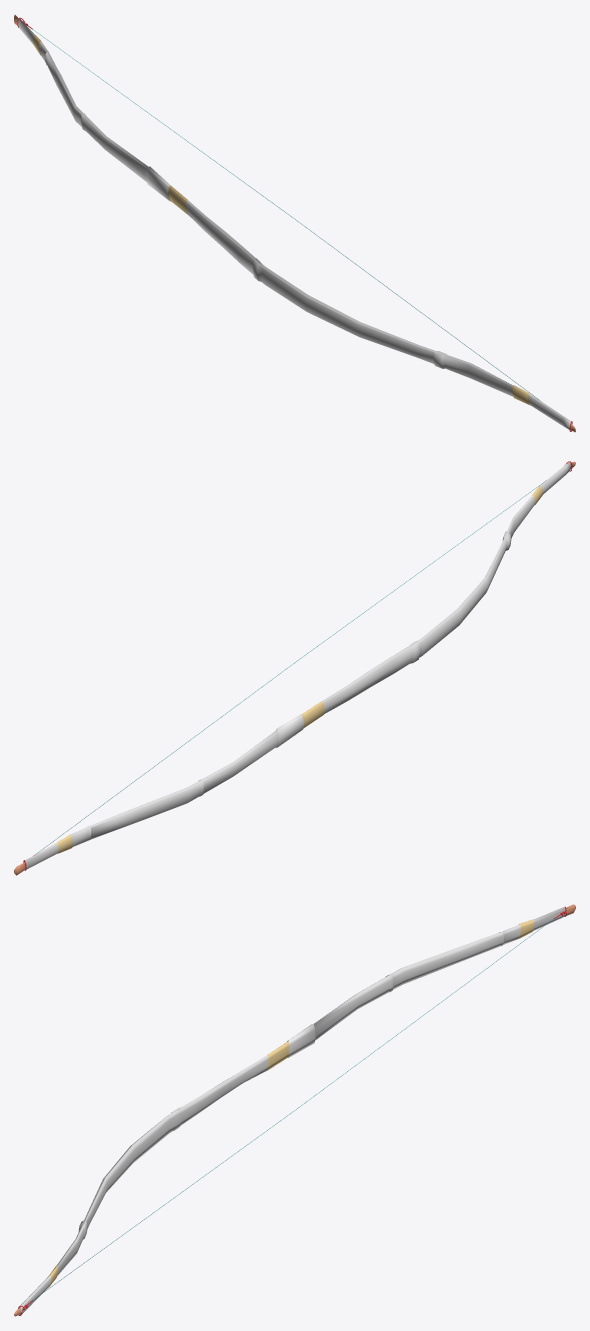
The model's file is Bow.fbx.
The picture shows the model from 3 angles, top to bottom: view 1: azimuth 30°, elevation 25°; view 2: azimuth 150°, elevation 25°; view 3: azimuth 330°, elevation 25°; orthographic projection.
Parts seen in each view (by area): view 1: Torus; view 2: Torus; view 3: Torus.
Part boxes in pixels (x1,y1,x2,y2): Torus: (14,15,575,432); Torus: (14,461,575,875); Torus: (14,904,575,1316).
Bounding box in the file's own units: 0.1969 × 0.0447 × 2.27.
